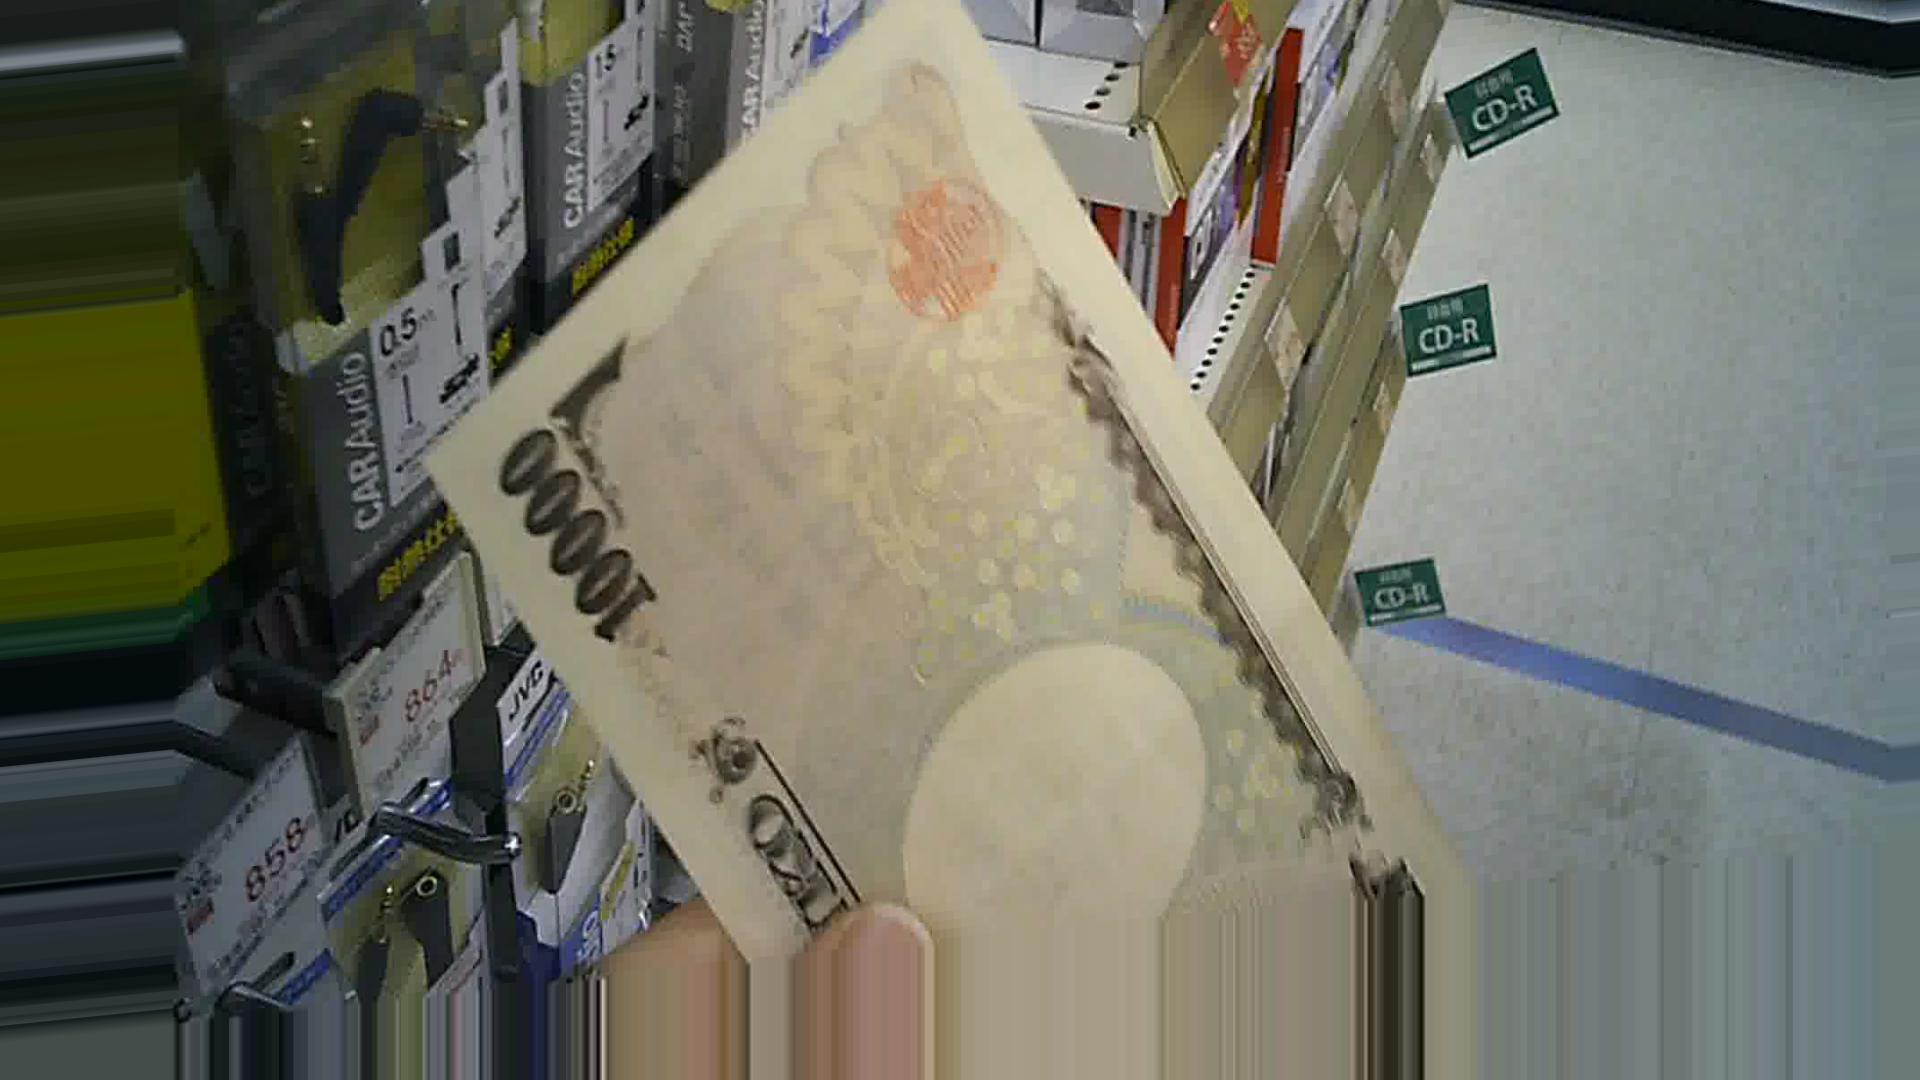10,000 Yen: (356, 7, 1516, 982)
